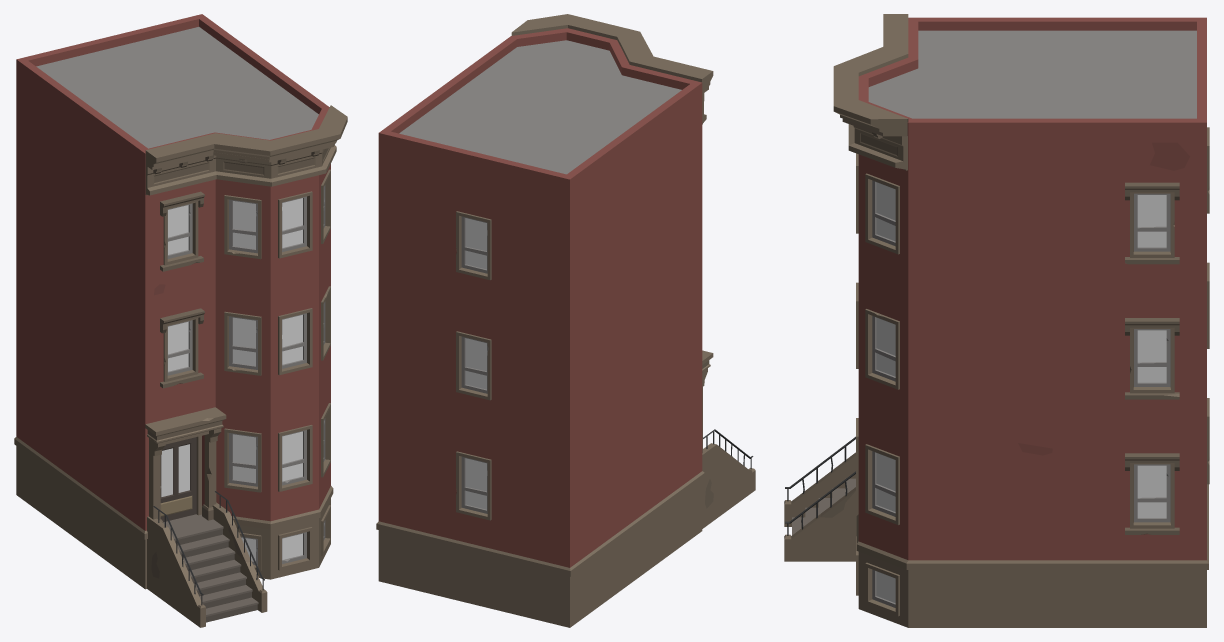
Rendered from SM_Bldg_City_Apartment_T2_3Floor_Corner.fbx.
3 views of the same model, side by side, from view 1: azimuth 30°, elevation 25°; view 2: azimuth 150°, elevation 25°; view 3: azimuth 270°, elevation 25° (orthographic). The views are drawn at different scales.
Visible parts, largest first — view 1: SM_Bldg_City_Apartment_T2_3Floor_Corner, SM_Bldg_City_Apartment_T2_3Floor_Corner_Glass, SM_Bldg_City_Apartment_T2_3Floor_Corner_Door; view 2: SM_Bldg_City_Apartment_T2_3Floor_Corner, SM_Bldg_City_Apartment_T2_3Floor_Corner_Glass; view 3: SM_Bldg_City_Apartment_T2_3Floor_Corner, SM_Bldg_City_Apartment_T2_3Floor_Corner_Glass.
Part boxes in pixels (left/top/right/bottom): SM_Bldg_City_Apartment_T2_3Floor_Corner: left=14, top=14, right=347, bottom=627; SM_Bldg_City_Apartment_T2_3Floor_Corner_Glass: left=168, top=198, right=302, bottom=560; SM_Bldg_City_Apartment_T2_3Floor_Corner_Door: left=160, top=437, right=196, bottom=522; SM_Bldg_City_Apartment_T2_3Floor_Corner: left=376, top=14, right=755, bottom=627; SM_Bldg_City_Apartment_T2_3Floor_Corner_Glass: left=465, top=218, right=487, bottom=509; SM_Bldg_City_Apartment_T2_3Floor_Corner: left=784, top=14, right=1209, bottom=627; SM_Bldg_City_Apartment_T2_3Floor_Corner_Glass: left=876, top=182, right=1166, bottom=602.
Size of the model in its own units: 522 by 1128 by 854.
